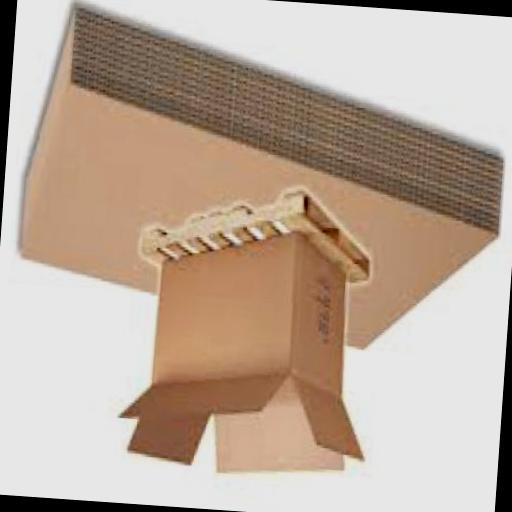cardboard: (15, 8, 512, 362), (16, 84, 508, 362), (116, 224, 382, 486)
